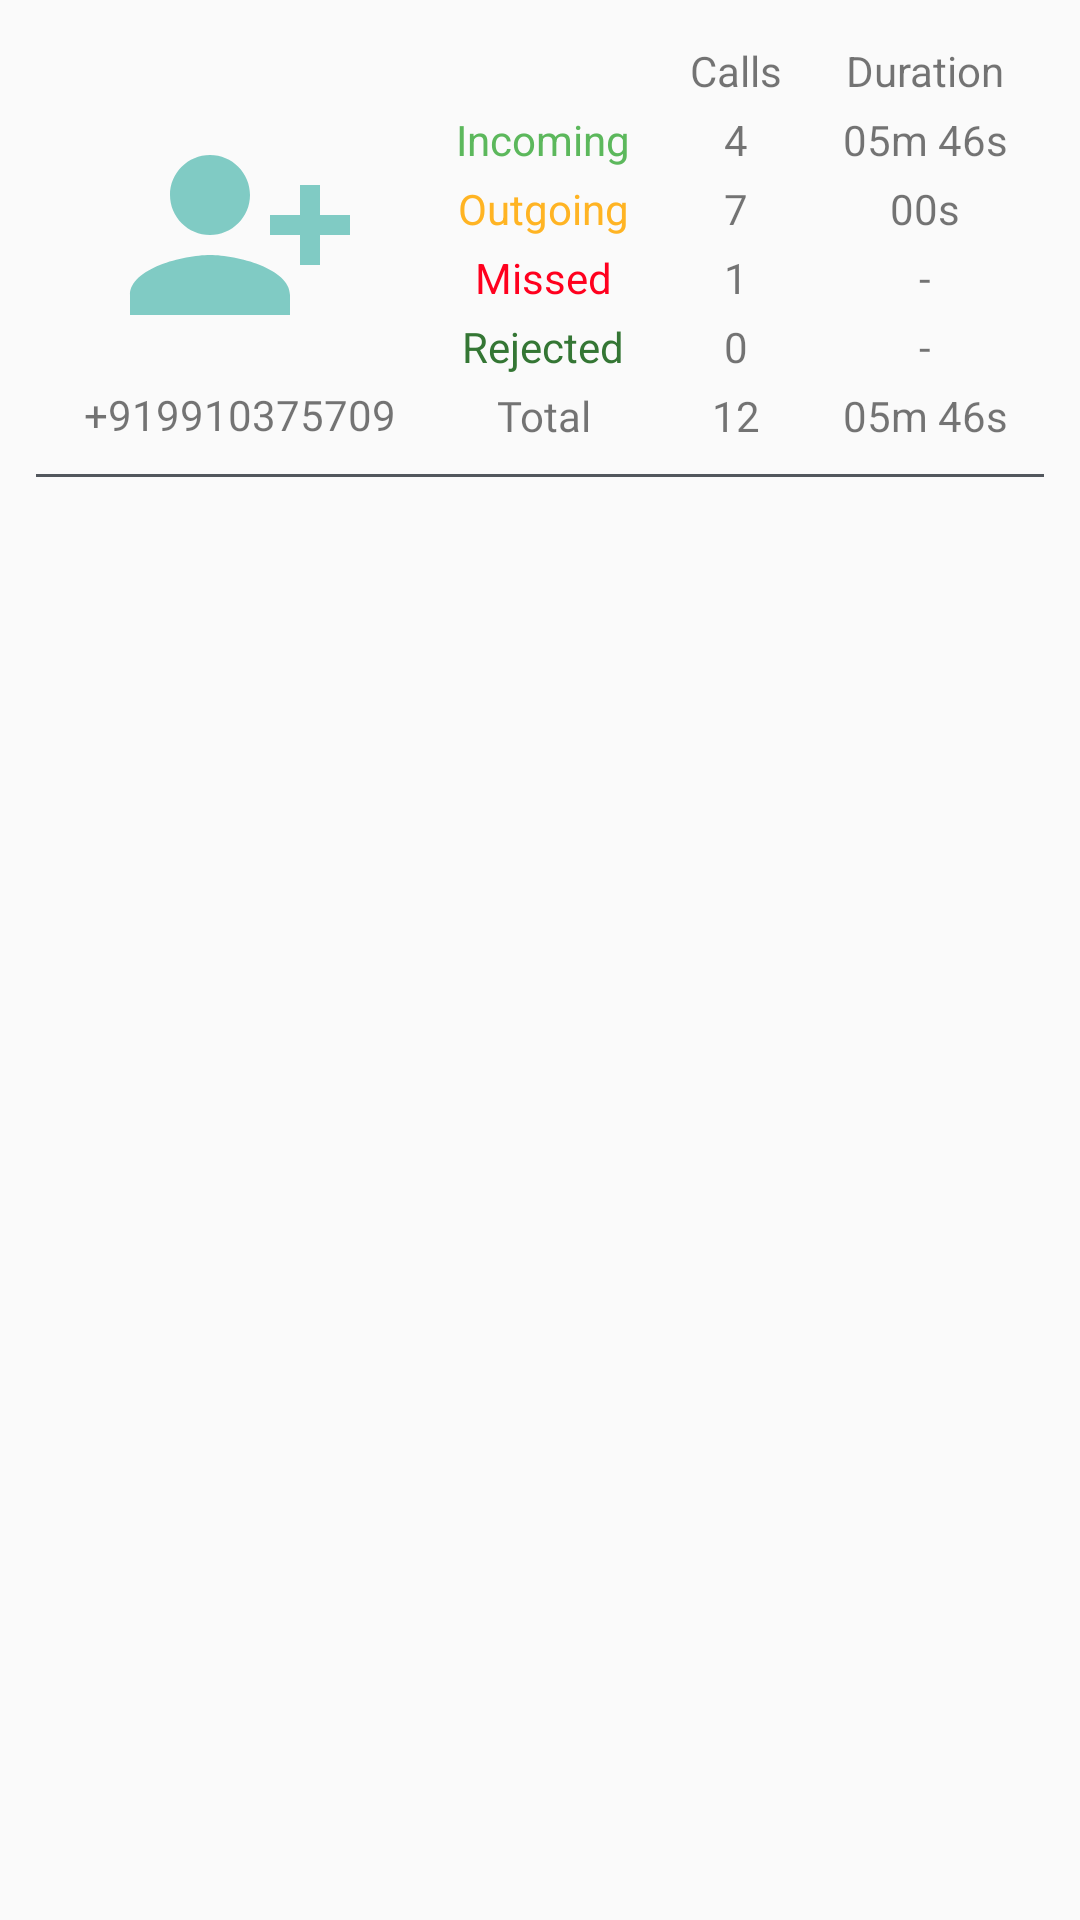

Named icons in this screenshot (1080 × 1920) and their centers, point (x, y):
add person: point (240, 235)
